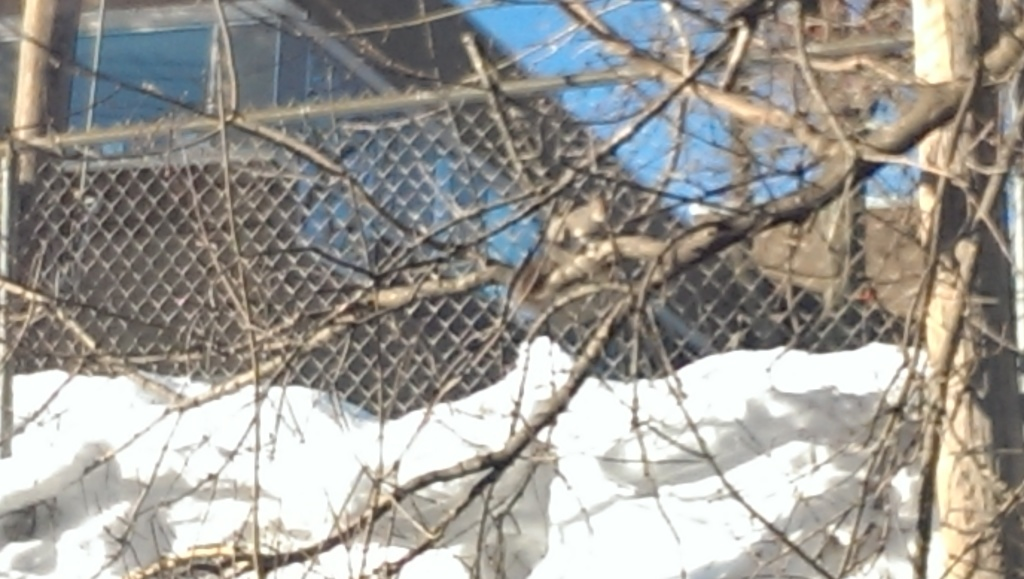Tree: (62, 0, 965, 532), (6, 0, 211, 390)
